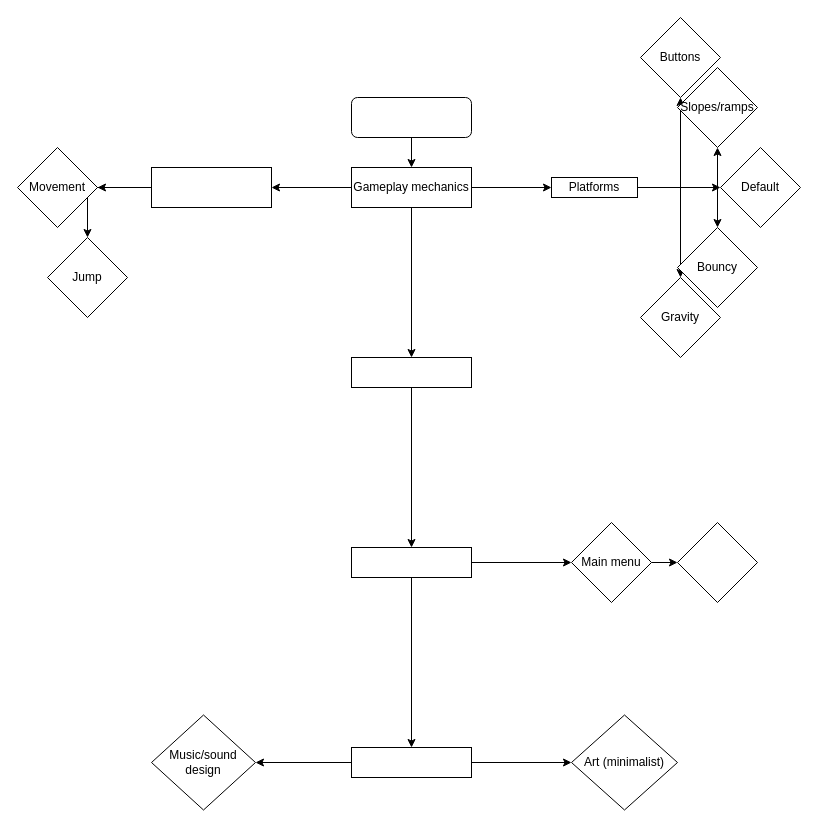
Image size: 818x828. Some labels were removed from this diagram. Each missing label, with the centre of its shape:
"Development order for game" belongs at [411,117].
"Level design" belongs at [411,372].
"Level select" belongs at [717,562].
"Menus/UI" belongs at [411,562].
"Player" belongs at [211,187].
"Polish" belongs at [411,762].
